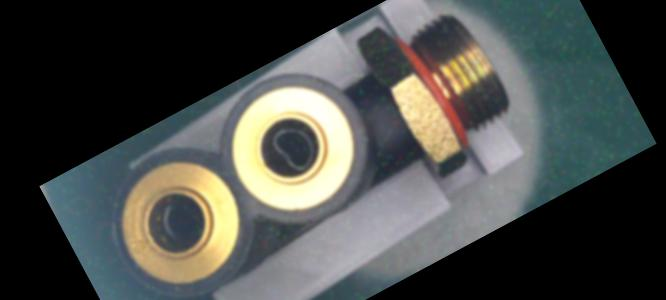off-centered: (263, 117, 324, 181), (155, 191, 212, 250)
